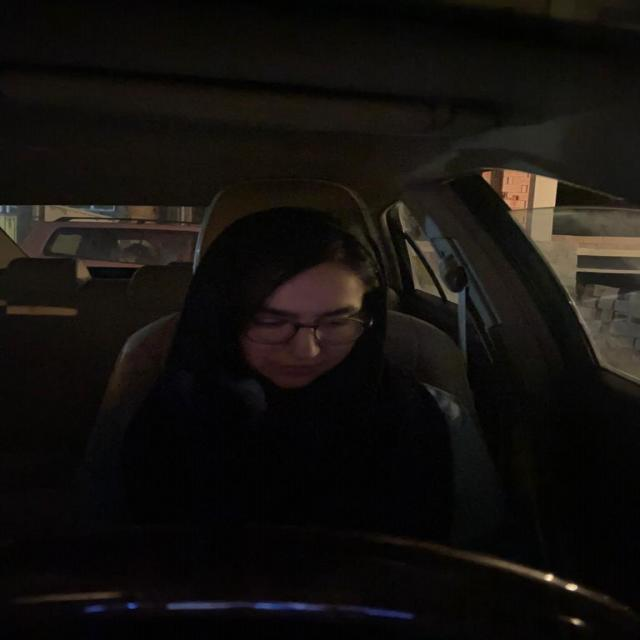drowsy: (190, 204, 392, 390)
